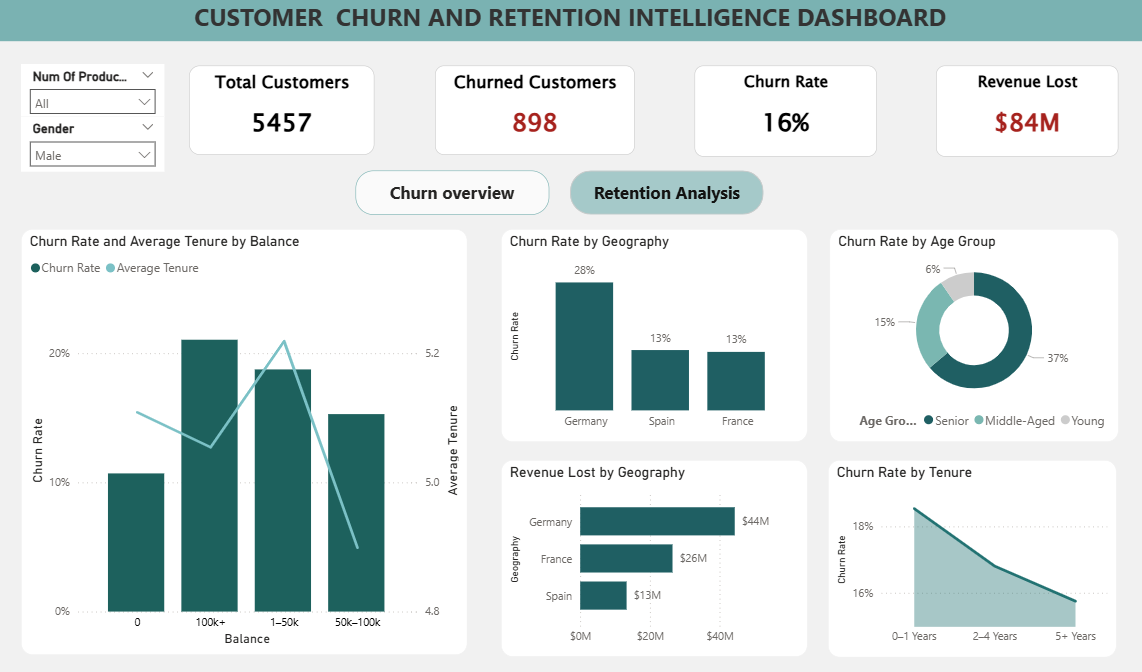

The dashboard page shown, as its layout file describes it:
{"tool":"powerbi","page":{"name":"Churn Overview","canvas":[1280,760],"ordinal":0},"visuals":[{"type":"textbox","box":[0,0,1280.5,51.4],"z":0},{"type":"card","title":"Total Customers","fields":{"Values":["bank_churn churn_bank.Total Customers1"]},"box":[217,77.9,205.9,99.2],"z":0},{"type":"card","title":"Churned Customers","fields":{"Values":["bank_churn churn_bank.Churned Customers1"]},"box":[489.5,77.9,221.9,99.2],"z":1000},{"type":"donutChart","fields":{"Category":["bank_churn churn_bank.Age Group"],"Y":["bank_churn churn_bank.Churn Rate1"]},"box":[928.8,259.6,321.2,236.5],"z":1000},{"type":"card","title":"Churn Rate","fields":{"Values":["bank_churn churn_bank.Churn Rate1"]},"box":[778,77.9,202.4,101],"z":2000},{"type":"clusteredColumnChart","fields":{"Category":["bank_churn churn_bank.Geography"],"Y":["bank_churn churn_bank.Churn Rate1"]},"box":[563.5,259.6,340.4,236.5],"z":2000},{"type":"card","title":"Revenue Lost","fields":{"Values":["bank_churn churn_bank.Revenue Lost1"]},"box":[1047,77.9,202.4,101],"z":3000},{"type":"barChart","fields":{"Y":["bank_churn churn_bank.Revenue Lost1"],"Category":["bank_churn churn_bank.Geography"]},"box":[563,516.7,340.7,218.5],"z":3000},{"type":"lineChart","fields":{"Category":["bank_churn churn_bank.Tenure Bucket"],"Y":["bank_churn churn_bank.Churn Rate1"]},"box":[927.4,516.1,321,219.4],"z":4000},{"type":"textbox","title":"CHURN OVERVIEW","box":[401.9,194.3,215.1,49.1],"z":5000},{"type":"lineStackedColumnComboChart","fields":{"Y":["bank_churn churn_bank.Churn Rate1"],"Category":["bank_churn churn_bank.Balance Bucket"],"Y2":["Avg(bank_churn churn_bank.Tenure)"]},"box":[30.8,259.6,496.2,473.1],"z":6000},{"type":"slicer","fields":{"Values":["bank_churn churn_bank.Gender"]},"box":[30.8,134.6,159.6,61.5],"z":7000,"group":"g1"},{"type":"group","id":"g1","title":"Group 2","box":[30.8,76.9,159.6,119.2],"z":8000},{"type":"pageNavigator","box":[639.6,194.3,215,49.1],"z":8001},{"type":"slicer","fields":{"Values":["bank_churn churn_bank.NumOfProducts"]},"box":[30.8,76.9,159.6,57.7],"z":9000,"group":"g1"}]}

Visuals, with their boxes in screenshot pixels (x1, y1, x2, y2), scaled from the page's 1280x760 canvas onto the 1142x672 screenshot:
textbox: left=0, top=0, right=1141, bottom=45
"Total Customers" card: left=194, top=69, right=377, bottom=157
"Churned Customers" card: left=437, top=69, right=635, bottom=157
donutChart - bank_churn churn_bank.Age Group x bank_churn churn_bank.Churn Rate1: left=829, top=230, right=1115, bottom=439
"Churn Rate" card: left=694, top=69, right=875, bottom=158
clusteredColumnChart - bank_churn churn_bank.Geography x bank_churn churn_bank.Churn Rate1: left=503, top=230, right=806, bottom=439
"Revenue Lost" card: left=934, top=69, right=1115, bottom=158
barChart - bank_churn churn_bank.Revenue Lost1 x bank_churn churn_bank.Geography: left=502, top=457, right=806, bottom=650
lineChart - bank_churn churn_bank.Tenure Bucket x bank_churn churn_bank.Churn Rate1: left=827, top=456, right=1114, bottom=650
"CHURN OVERVIEW" textbox: left=359, top=172, right=550, bottom=215
lineStackedColumnComboChart - bank_churn churn_bank.Churn Rate1 x bank_churn churn_bank.Balance Bucket: left=27, top=230, right=470, bottom=648
slicer - bank_churn churn_bank.Gender: left=27, top=119, right=170, bottom=173
"Group 2" group: left=27, top=68, right=170, bottom=173
pageNavigator: left=571, top=172, right=762, bottom=215
slicer - bank_churn churn_bank.NumOfProducts: left=27, top=68, right=170, bottom=119
